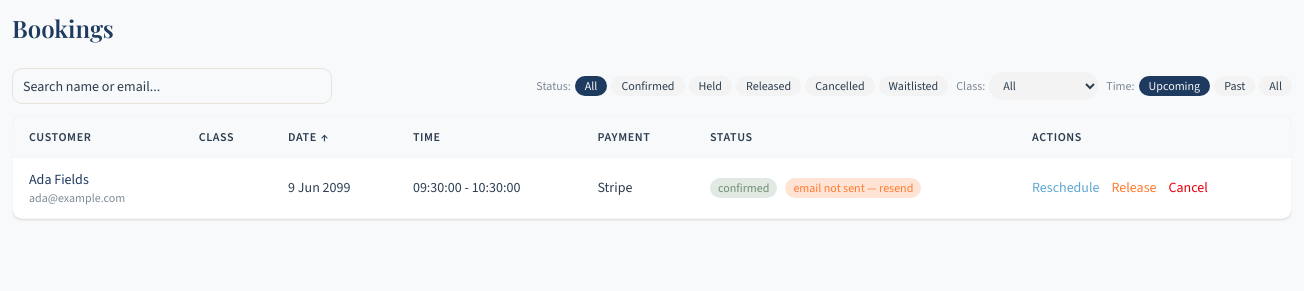
Test: /admin/bookings › says why a resend did not go out
This screenshot has width=1304, height=291.
Click the button "email not sent — resend" at (853, 188), box [785, 178, 921, 198]
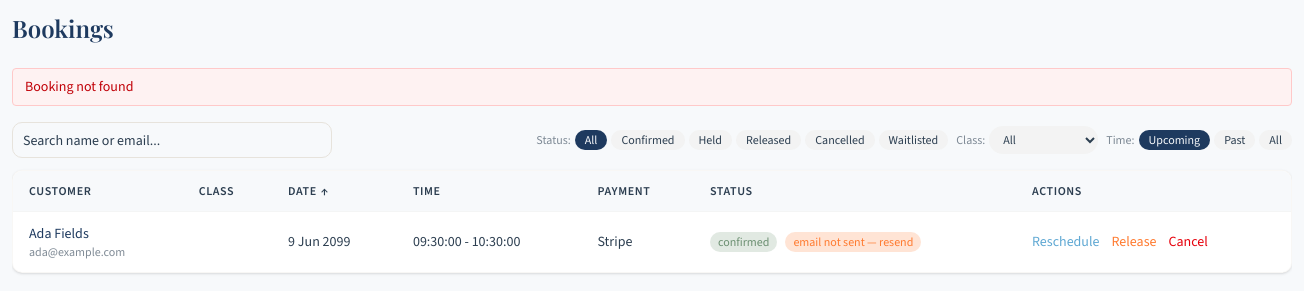
expect the message reads "Booking not found": met, box [25, 77, 133, 96]
